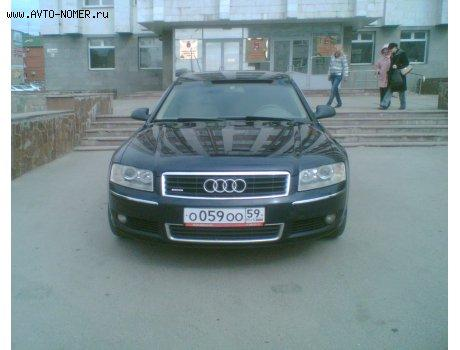license-plateSW: (184, 208, 265, 223)
